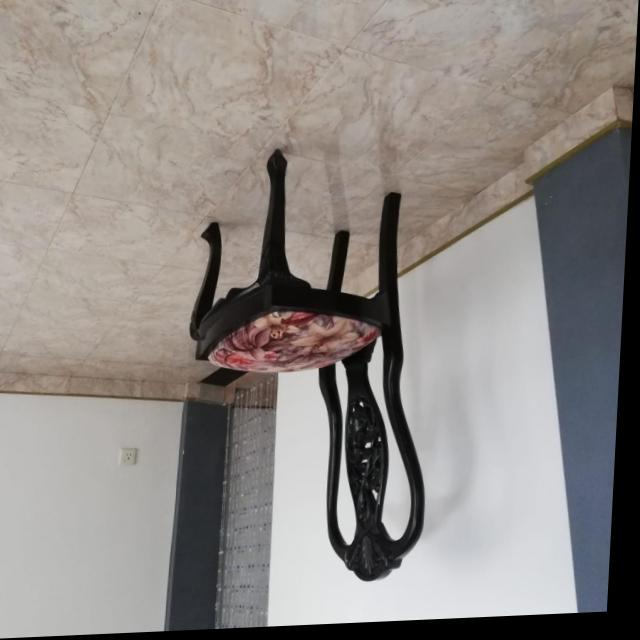Chair: (182, 143, 449, 593)
